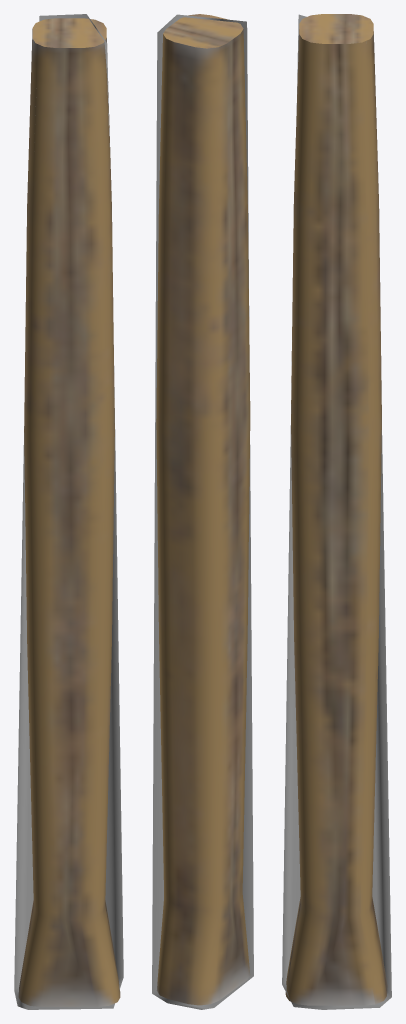
Rendered from SM_Wheel_Pole.gltf.
3 views of the same model, side by side, from view 1: azimuth 90°, elevation 25°; view 2: azimuth 150°, elevation 25°; view 3: azimuth 270°, elevation 25° (orthographic).
Visible parts, largest first — view 1: SM_Wheel_Pole_LOD0, SM_Wheel_Pole_ConvexHulls; view 2: SM_Wheel_Pole_LOD0, SM_Wheel_Pole_ConvexHulls; view 3: SM_Wheel_Pole_LOD0, SM_Wheel_Pole_ConvexHulls.
Part boxes in pixels (box(x1,y1,x2,y2)): SM_Wheel_Pole_LOD0: box(18, 18, 120, 1006); SM_Wheel_Pole_ConvexHulls: box(14, 14, 123, 1009); SM_Wheel_Pole_LOD0: box(156, 14, 250, 1005); SM_Wheel_Pole_ConvexHulls: box(152, 14, 253, 1009); SM_Wheel_Pole_LOD0: box(285, 14, 387, 1005); SM_Wheel_Pole_ConvexHulls: box(282, 14, 391, 1009).
Size of what is drawn, in the model's own units: 0.0402 by 0.5346 by 0.0551.
